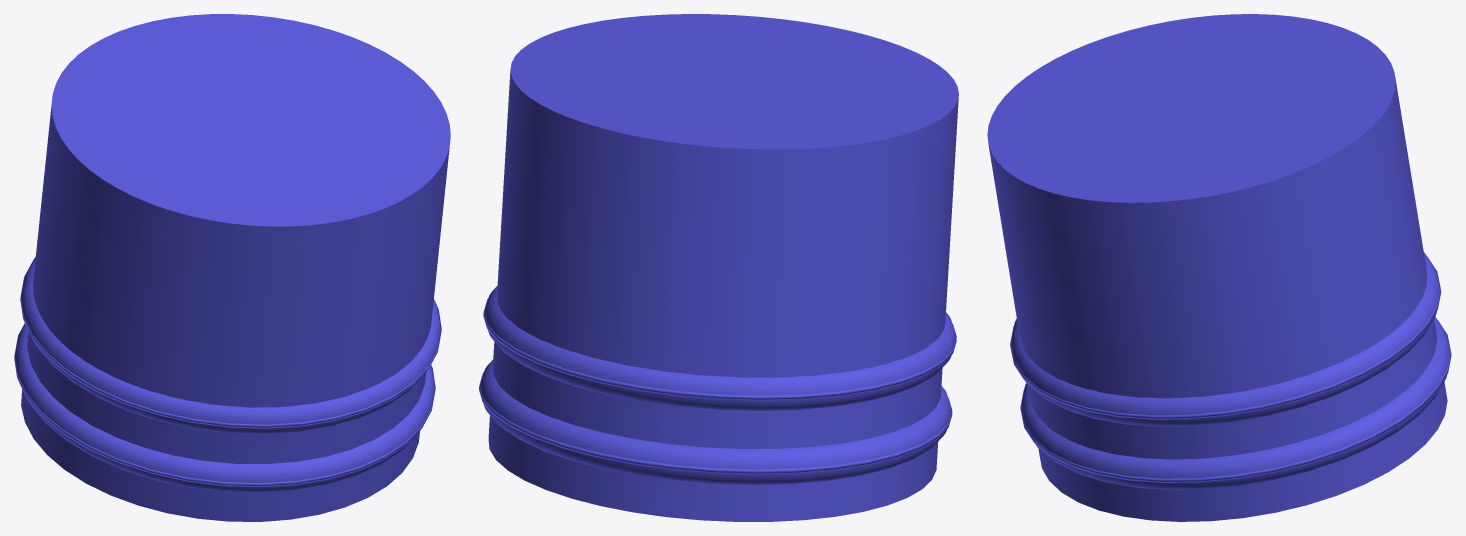
The model's file is bombilla194.obj.
The picture shows the model from 3 angles, left to right: view 1: azimuth 30°, elevation 25°; view 2: azimuth 150°, elevation 25°; view 3: azimuth 270°, elevation 25°; orthographic projection. The views are drawn at different scales.
Parts seen in each view (by area): view 1: Cylinder001, Cylinder004, Cylinder002, Cylinder003, Cylinder006; view 2: Cylinder001, Cylinder004, Cylinder003, Cylinder006, Cylinder002; view 3: Cylinder001, Cylinder004, Cylinder003, Cylinder002, Cylinder006.
Part boxes in pixels (box(x1,y1,x2,y2)): Cylinder001: box(32, 14, 450, 407); Cylinder004: box(14, 323, 435, 492); Cylinder002: box(20, 257, 441, 434); Cylinder003: box(27, 331, 425, 463); Cylinder006: box(21, 389, 419, 521); Cylinder001: box(497, 14, 958, 377); Cylinder004: box(479, 359, 952, 484); Cylinder003: box(493, 341, 942, 448); Cylinder006: box(488, 415, 937, 521); Cylinder002: box(483, 286, 956, 410); Cylinder001: box(987, 14, 1427, 398); Cylinder004: box(1020, 316, 1451, 489); Cylinder003: box(1028, 318, 1437, 459); Cylinder002: box(1010, 252, 1441, 426); Cylinder006: box(1038, 382, 1447, 521).
Bounding box in the file's own units: 72.45 × 68.91 × 77.03.
